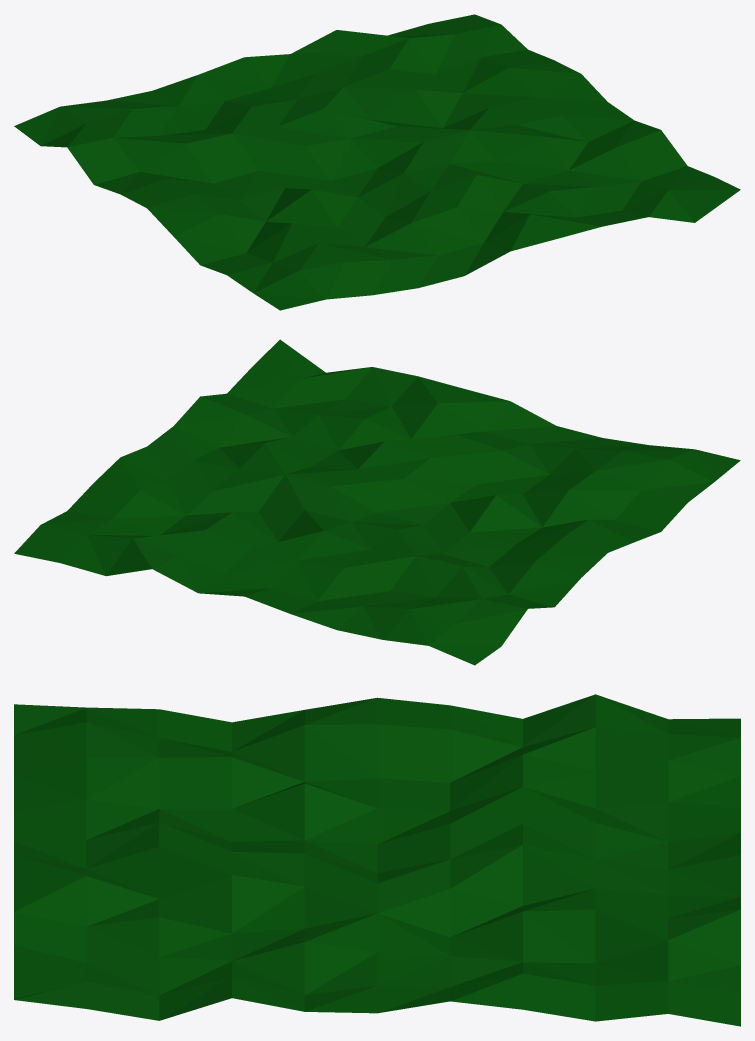
The model's file is Ground.obj.
The picture shows the model from 3 angles, top to bottom: view 1: azimuth 30°, elevation 25°; view 2: azimuth 150°, elevation 25°; view 3: azimuth 270°, elevation 25°; orthographic projection. The views are drawn at different scales.
Visible parts, largest first — view 1: Plane; view 2: Plane; view 3: Plane.
Boxes of the visible parts, x1,y1,x2,y2 form: Plane: [14, 14, 740, 310]; Plane: [14, 339, 740, 665]; Plane: [14, 694, 740, 1026].
Size of the model in its own units: 20 by 0.9797 by 20.
